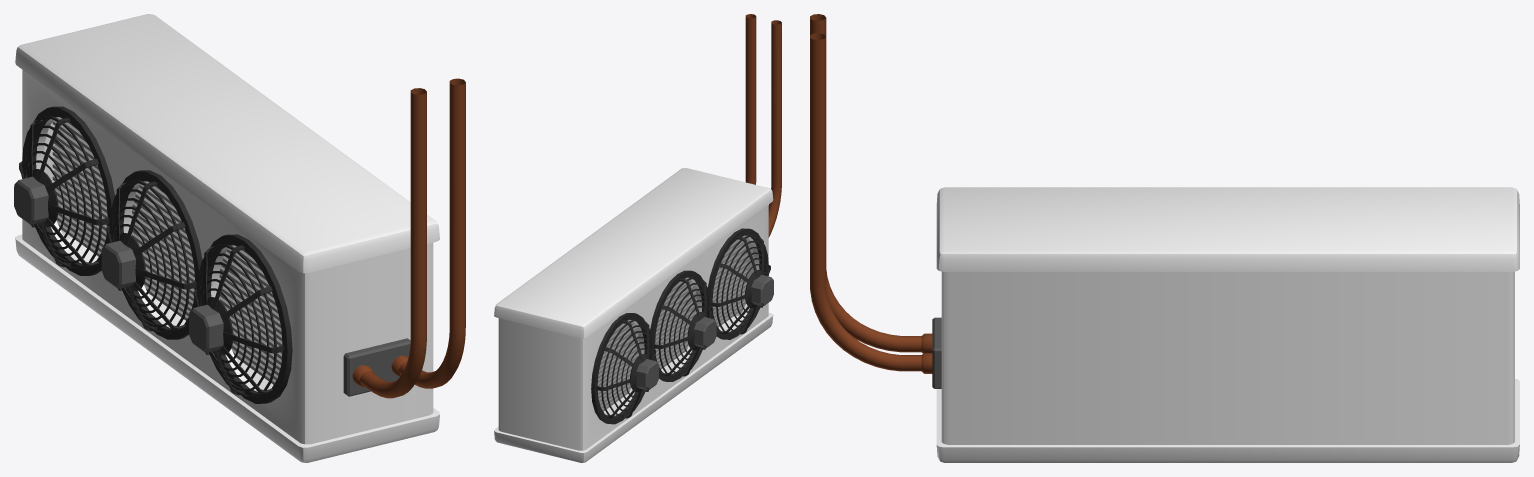
Rendered from refrigeration_unit.glb.
3 renders of one model, left to right at view 1: azimuth 30°, elevation 25°; view 2: azimuth 150°, elevation 25°; view 3: azimuth 270°, elevation 25°, orthographic. The views are drawn at different scales.
Visible parts, largest first — view 1: Refrigeration Unit, Refrigeration Unit_Grill, Refrigeration Unit_Pipes, Plane; view 2: Refrigeration Unit, Refrigeration Unit_Grill, Plane, Refrigeration Unit_Pipes; view 3: Refrigeration Unit, Refrigeration Unit_Pipes.
Part boxes in pixels (x1,y1,x2,y2): Refrigeration Unit: (15, 14, 439, 462); Refrigeration Unit_Grill: (14, 106, 292, 403); Refrigeration Unit_Pipes: (343, 78, 465, 398); Plane: (52, 117, 282, 384); Refrigeration Unit: (494, 168, 773, 462); Refrigeration Unit_Grill: (591, 228, 773, 424); Plane: (597, 235, 748, 411); Refrigeration Unit_Pipes: (745, 14, 781, 237); Refrigeration Unit: (936, 187, 1519, 462); Refrigeration Unit_Pipes: (810, 14, 941, 388).
Bounding box in the file's own units: 0.496 × 1.02 × 1.61.
1 material, 1 textured.
